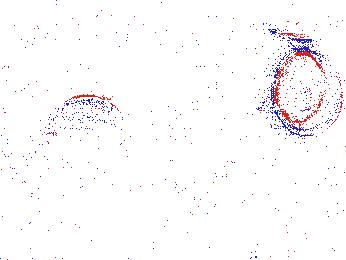moon jellyfish: (271, 50, 344, 137), (132, 43, 213, 112), (44, 94, 132, 144), (1, 67, 49, 158)
